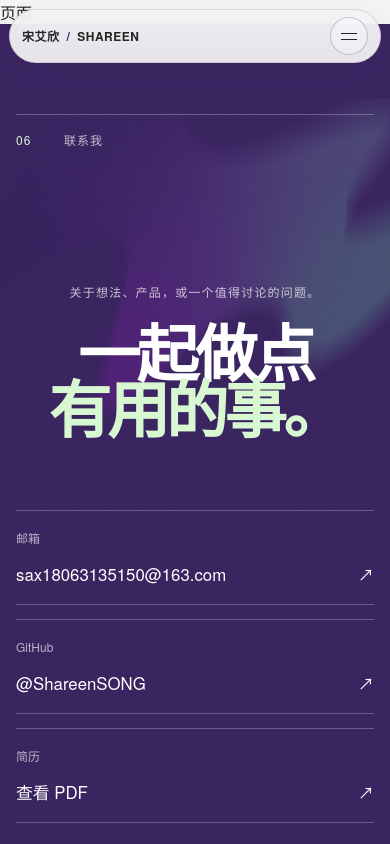
Test case: shared Chinese navigation › contracts on scroll and supports an Escape-closeable mobile menu
(page scrolled)
Click the button named "打开菜单" at (349, 36), box [330, 17, 368, 55]
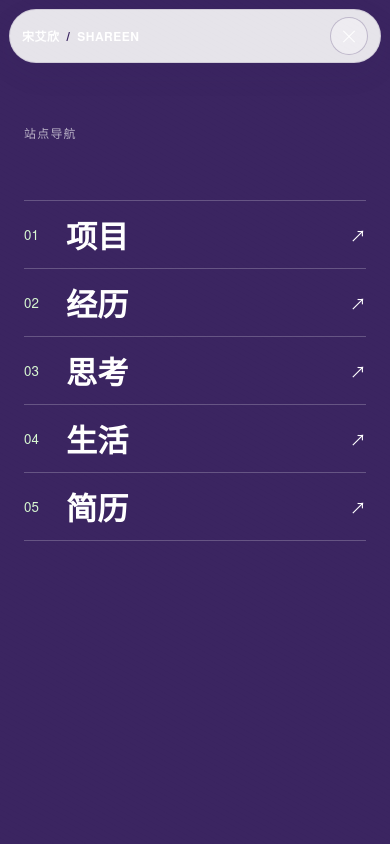
Expected: the button named "打开菜单" is expanded, [330, 17, 368, 55]
Press Escape
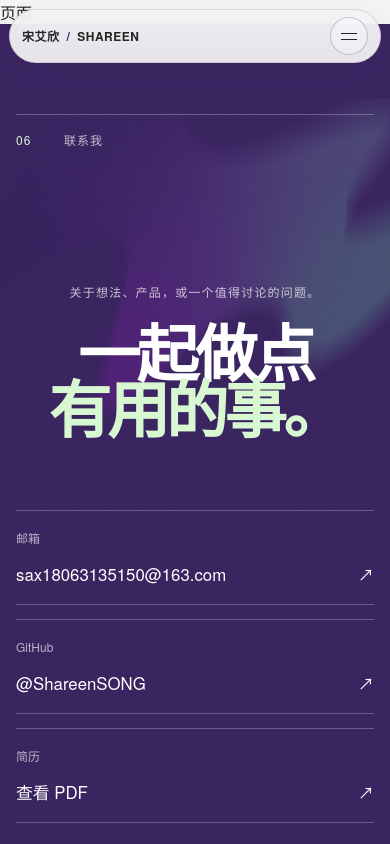
Expected: the button named "打开菜单" is collapsed, [330, 17, 368, 55]
